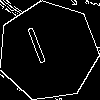I: (23, 26, 53, 74)
